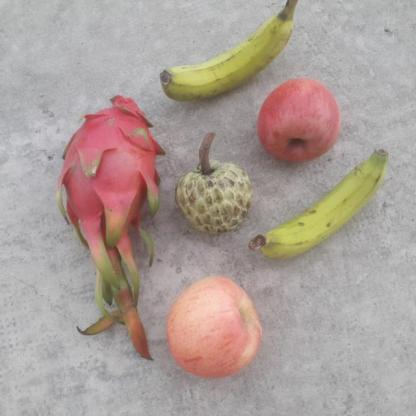annona: (172, 160, 256, 235)
apple: (166, 272, 264, 382), (255, 78, 343, 164)
banana: (258, 147, 386, 262), (159, 12, 296, 100)
pitaya: (52, 95, 172, 258)
